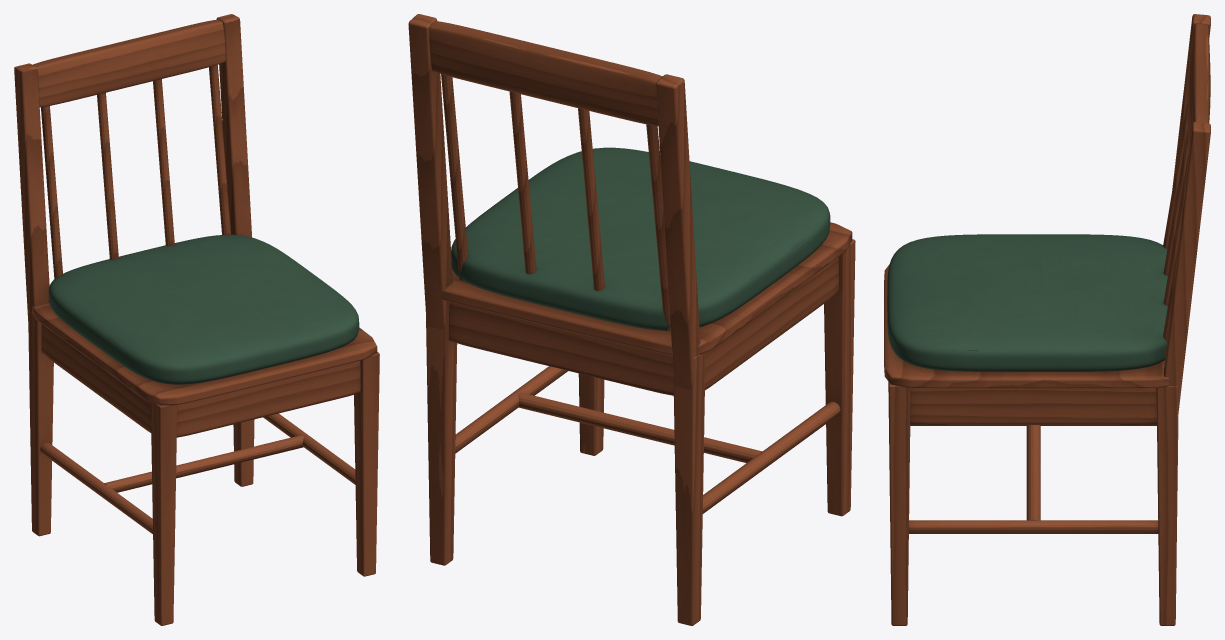
File: cherry-padded.glb
3 renders of one model, left to right at view 1: azimuth 30°, elevation 25°; view 2: azimuth 150°, elevation 25°; view 3: azimuth 270°, elevation 25°, orthographic. The views are drawn at different scales.
Visible parts, largest first — view 1: wood_v, fabric_primary, wood_h, wood_hy; view 2: wood_v, fabric_primary, wood_h, wood_hy; view 3: fabric_primary, wood_v, wood_hy, wood_h.
Boxes of the visible parts, x1,y1,x2,y2 form: wood_v: [14, 14, 379, 625]; fabric_primary: [48, 234, 359, 384]; wood_h: [32, 19, 377, 492]; wood_hy: [40, 324, 355, 533]; wood_v: [408, 14, 855, 625]; fabric_primary: [451, 147, 830, 330]; wood_h: [429, 21, 852, 462]; wood_hy: [455, 257, 840, 513]; fabric_primary: [887, 234, 1167, 371]; wood_v: [888, 14, 1210, 625]; wood_hy: [909, 388, 1158, 533]; wood_h: [884, 23, 1210, 520].
Size of the model in its own units: 0.46 by 0.8811 by 0.5245.
4 materials, 4 textured.
